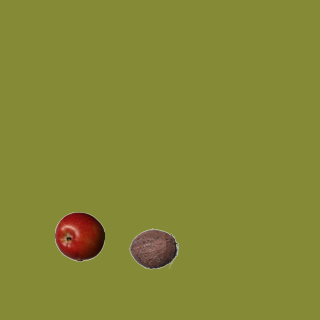Apple Braeburn: (54, 211, 104, 261)
Cocos: (128, 223, 178, 273)
